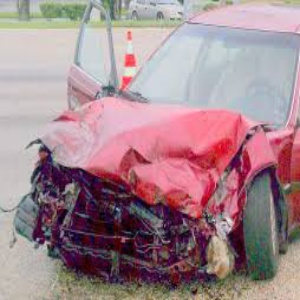bonnet: (63, 104, 235, 205)
bumper: (23, 189, 230, 286)
